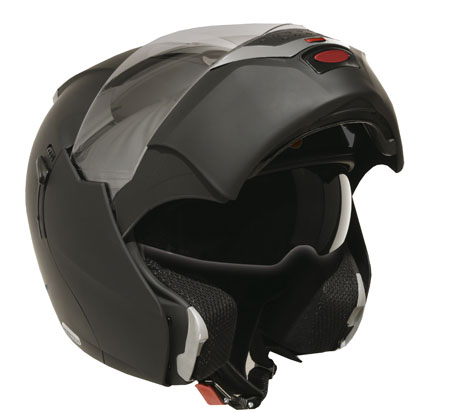helmet: (41, 35, 395, 363)
